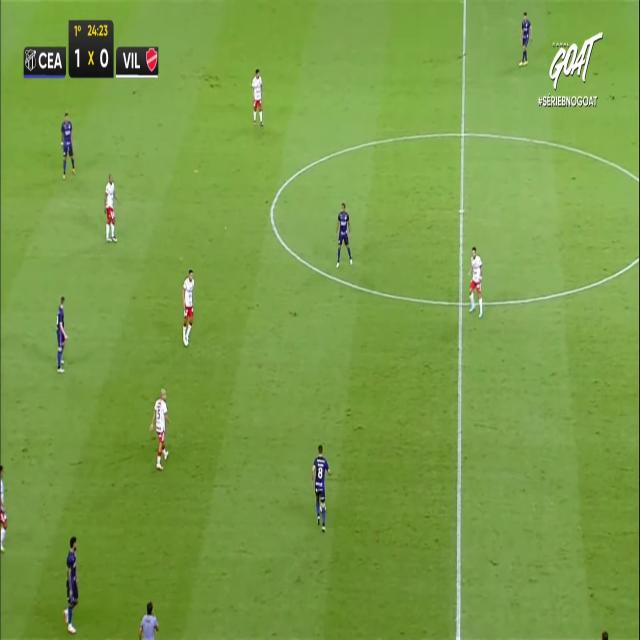ball: (320, 500, 328, 516)
player: (150, 387, 170, 469), (63, 534, 79, 633), (312, 444, 330, 531), (60, 112, 76, 179), (468, 245, 483, 316), (336, 201, 352, 267), (182, 268, 194, 345), (105, 173, 118, 242), (56, 295, 67, 372), (518, 10, 531, 65), (251, 67, 263, 124), (0, 462, 7, 551)
